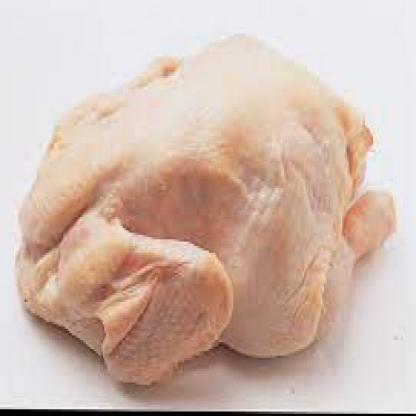chicken: (28, 32, 393, 392)
